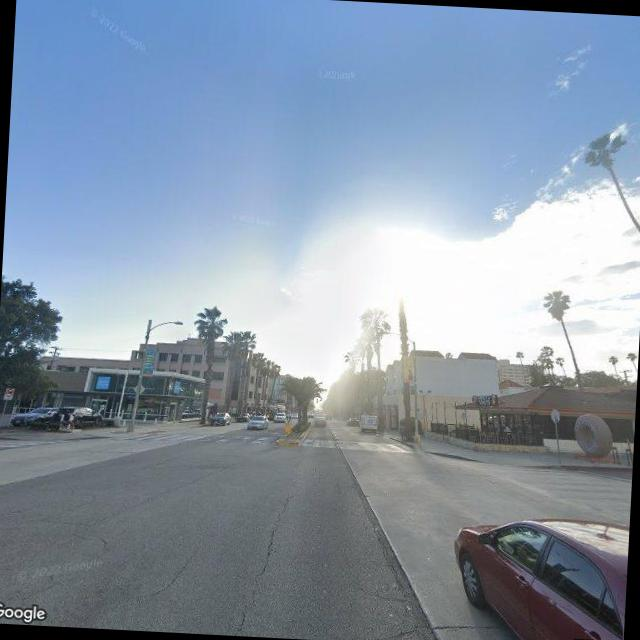pothole: (228, 484, 296, 637), (139, 544, 200, 602)
